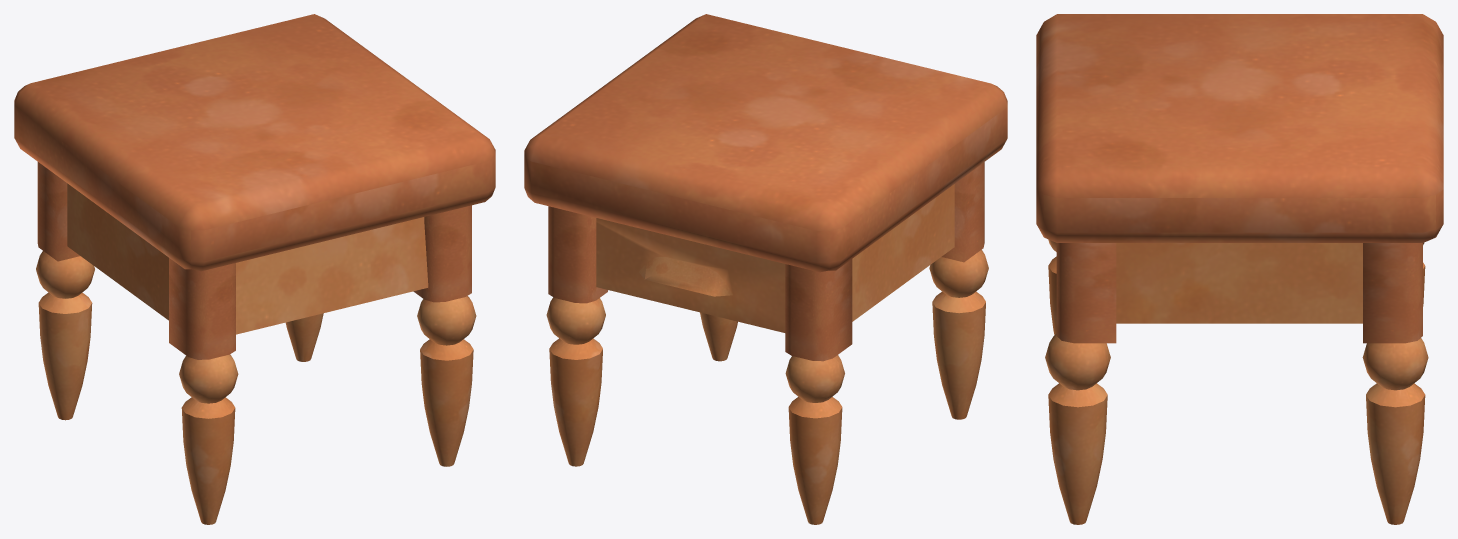
The model's file is SM_Little_Table.fbx.
3 renders of one model, left to right at view 1: azimuth 30°, elevation 25°; view 2: azimuth 150°, elevation 25°; view 3: azimuth 270°, elevation 25°, orthographic. The views are drawn at different scales.
Parts seen in each view (by area): view 1: SM_Little_Table; view 2: SM_Little_Table; view 3: SM_Little_Table.
Part boxes in pixels (<box>): SM_Little_Table: <box>14,14,495,524</box>; SM_Little_Table: <box>524,14,1007,524</box>; SM_Little_Table: <box>1036,14,1443,524</box>.
Bounding box in the file's own units: 99.19 × 98.9 × 99.7.
